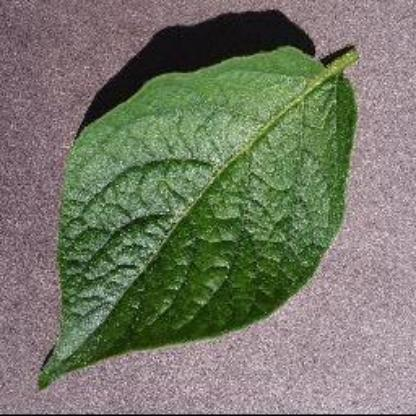Healthy-plant: (31, 40, 359, 394)
